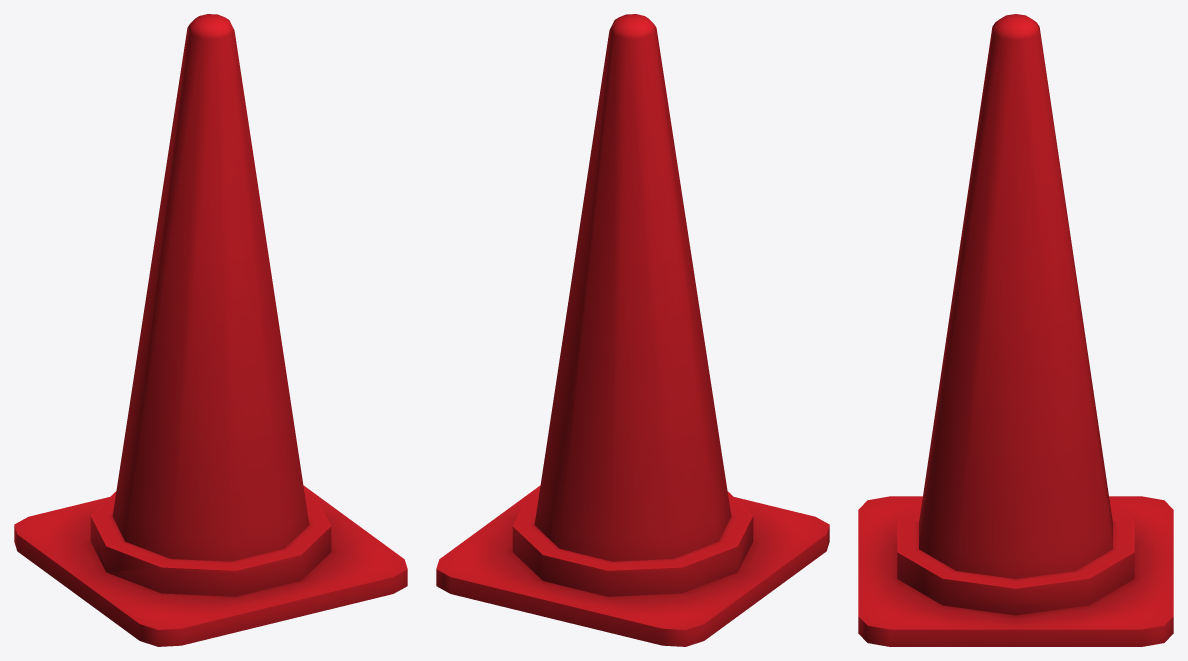
Rendered from obstacle.fbx.
3 renders of one model, left to right at view 1: azimuth 30°, elevation 25°; view 2: azimuth 150°, elevation 25°; view 3: azimuth 270°, elevation 25°, orthographic. The views are drawn at different scales.
Visible parts, largest first — view 1: obstacle; view 2: obstacle; view 3: obstacle.
Part boxes in pixels (x1,y1,x2,y2): obstacle: (14, 14, 407, 646); obstacle: (436, 14, 829, 646); obstacle: (858, 14, 1173, 646).
Size of the model in its own units: 2.96 by 5.84 by 2.96.
1 material, 1 textured.
